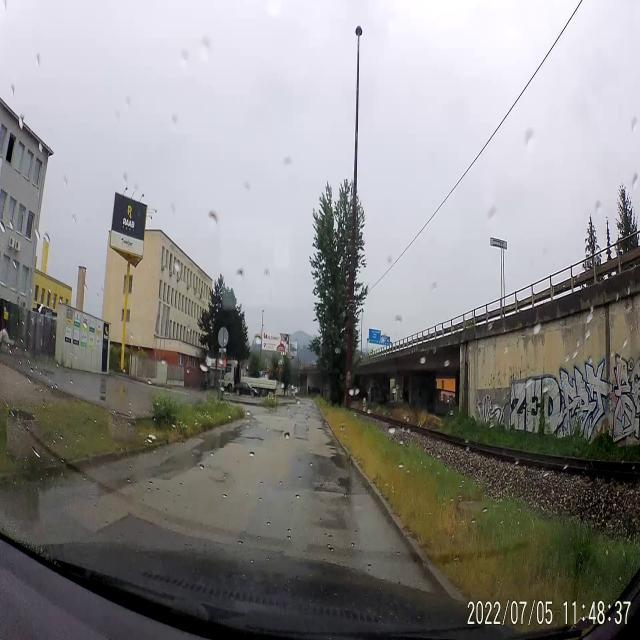Pothole: (310, 472, 356, 500), (245, 430, 265, 446)
